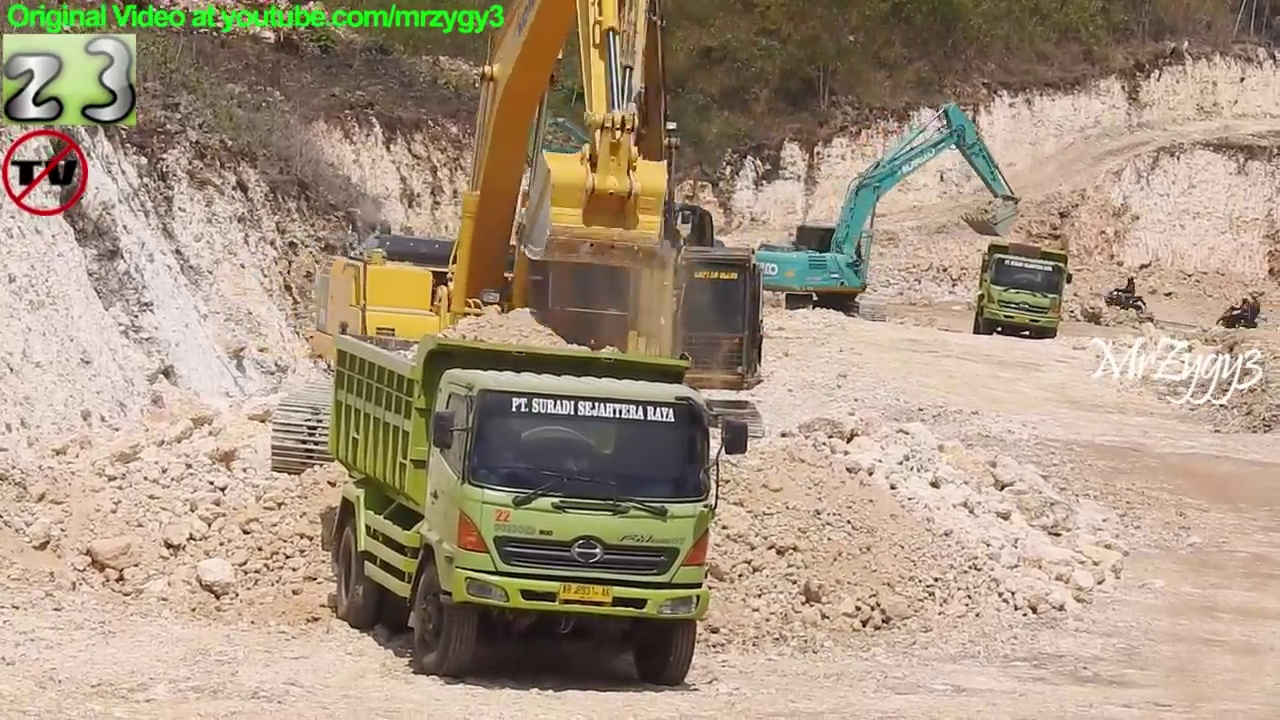excavator: (265, 1, 693, 495), (362, 1, 775, 474), (751, 100, 1022, 317)
truck: (329, 326, 755, 689), (969, 238, 1074, 341)
